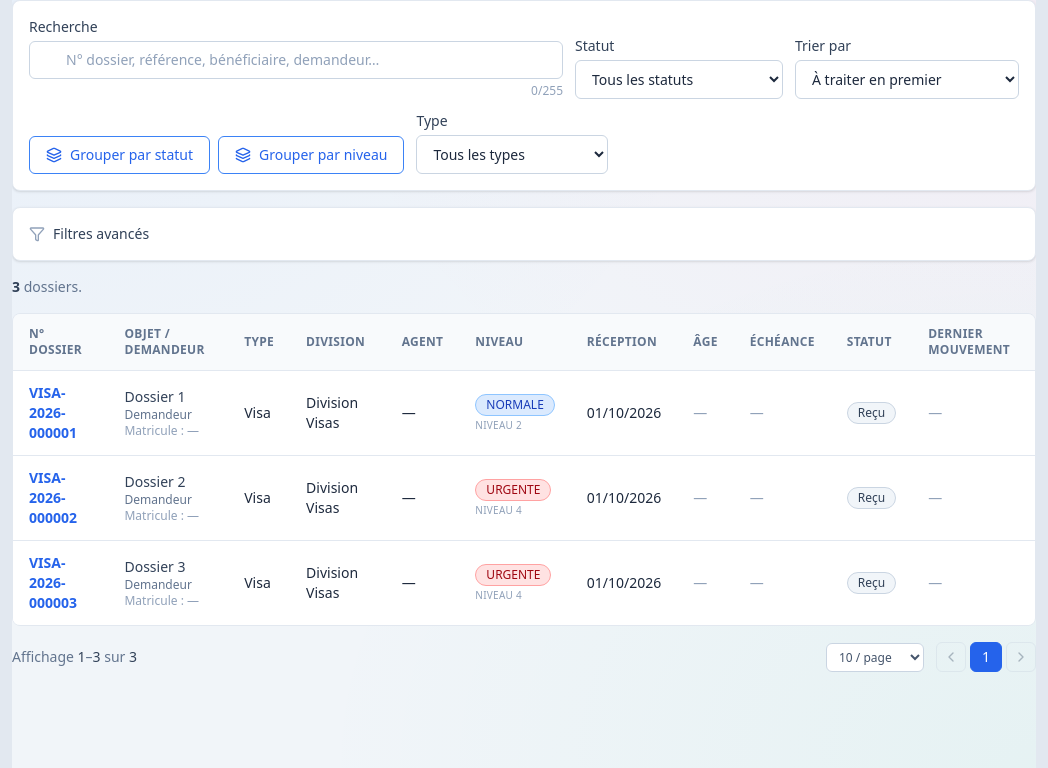
Test: Liste des dossiers — regroupement par niveau › affiche une section par niveau, du plus urgent au moins urgent
The width and height of the screenshot is (1048, 768).
Expected: the link "VISA-2026-000001" is shown, [29,383,77,442]
Step 1. Click the button "Grouper par niveau" → {"x": 311, "y": 155}, box [218,136,404,174]
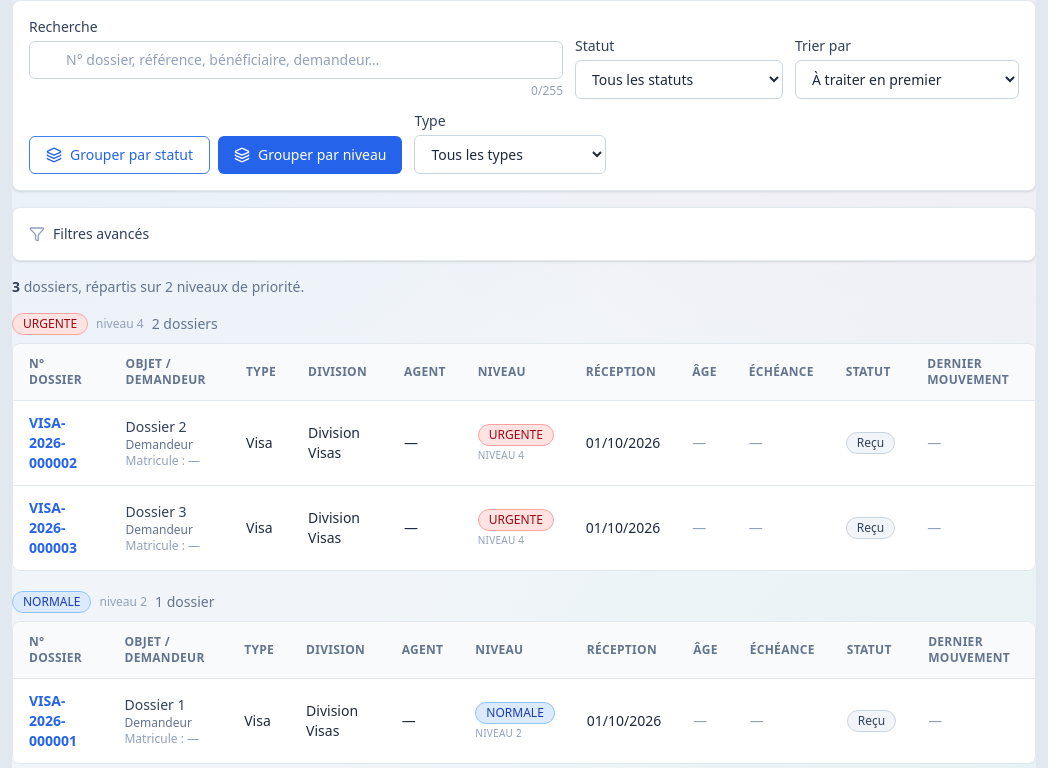
Expected: the element named "Dossiers URGENTE" is shown, [12,313,1036,571]
Expected: the element named "Dossiers NORMALE" is shown, [12,591,1036,764]
